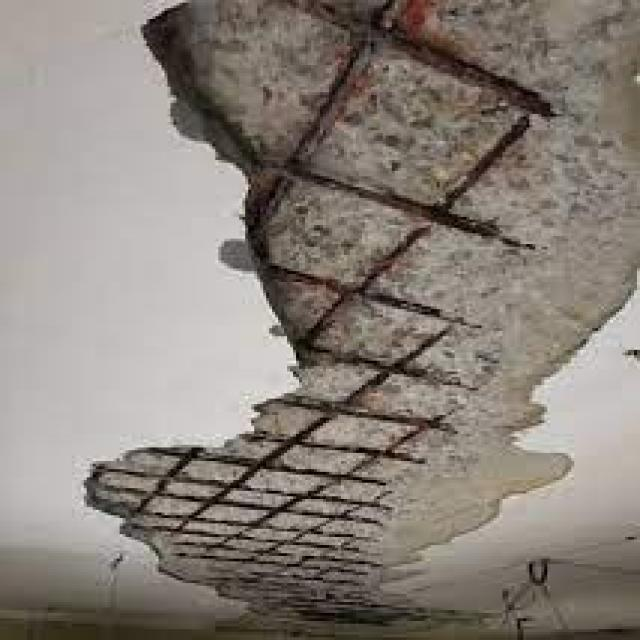Rebar: (84, 0, 640, 637)
